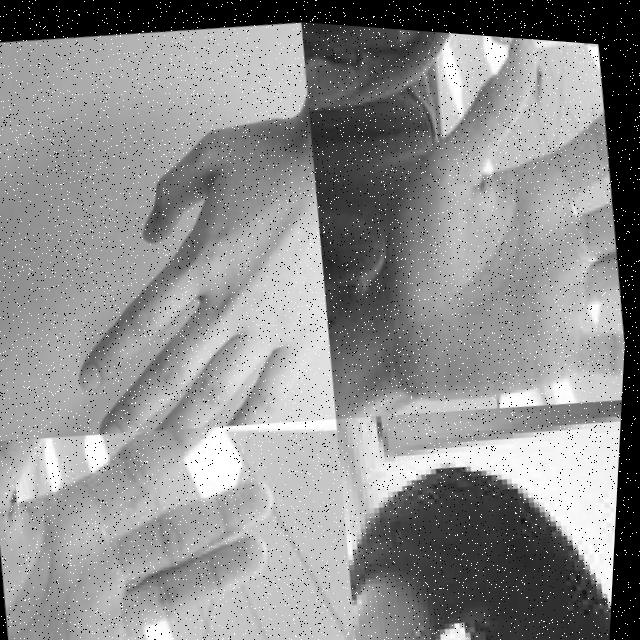hand: (347, 21, 640, 411), (45, 90, 353, 448), (0, 401, 310, 640)
